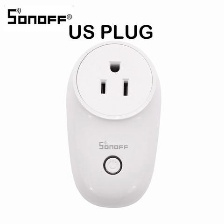three_eye_plug: (60, 32, 164, 210)
